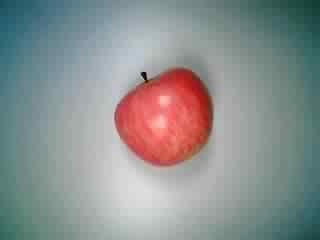apple: (111, 63, 215, 167)
